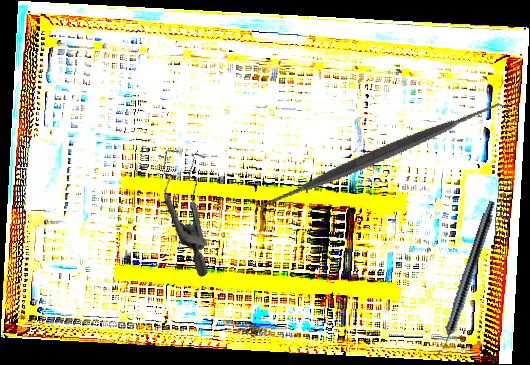Handpiece: (432, 198, 499, 361)
Spatula Surgical: (248, 21, 512, 290)
Speculum: (122, 134, 264, 279)
